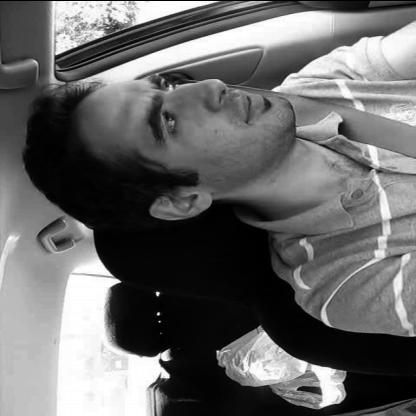seatbelt: (22, 65, 416, 251)
